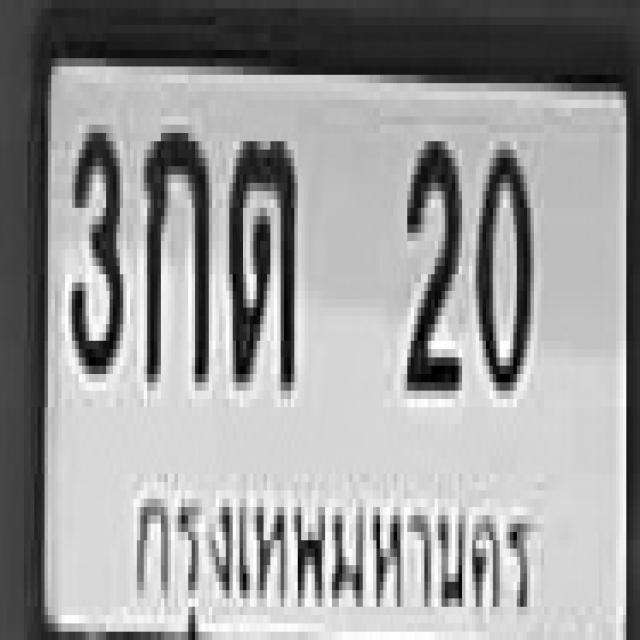0: (472, 142, 530, 382)
10GorGai: (140, 125, 206, 374)
2: (404, 133, 458, 382)
3: (68, 116, 120, 366)
30TorTao: (226, 133, 294, 382)
Bangkok: (127, 451, 539, 640)
